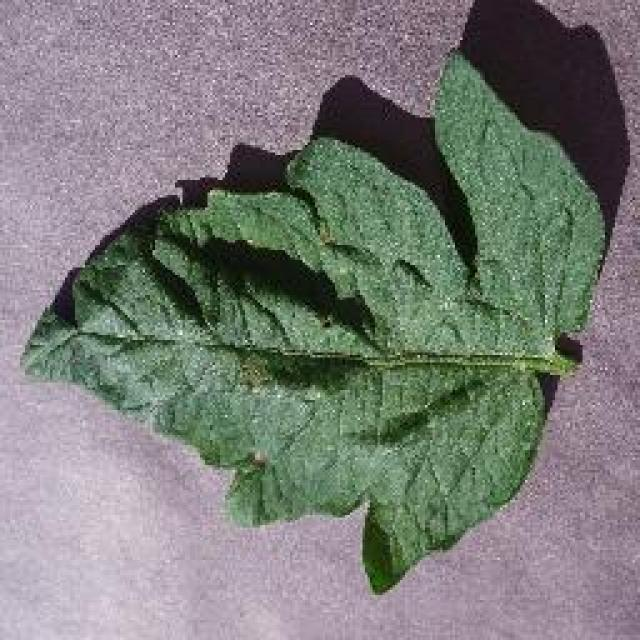Tomato___Target_Spot: (25, 52, 602, 590)
